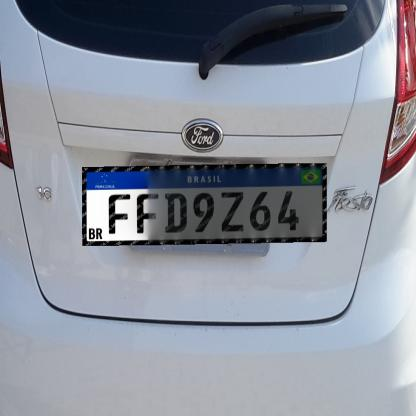PlacaM: (82, 163, 327, 246)
